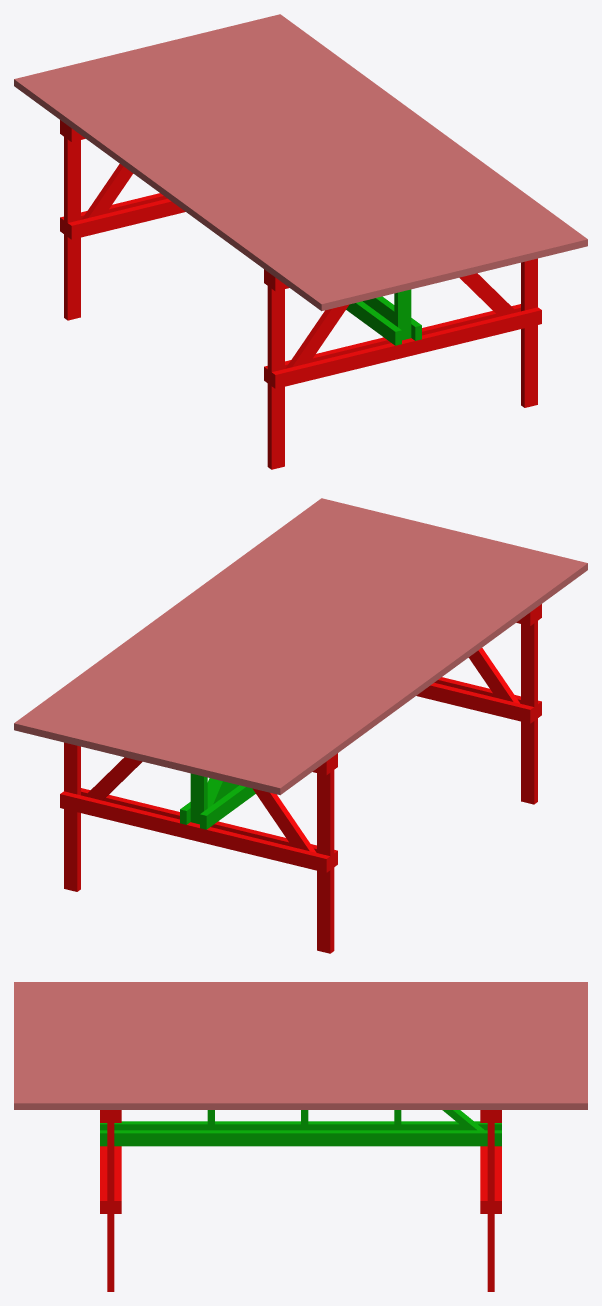
The model's file is result.glb.
3 views of the same model, one above another, from view 1: azimuth 30°, elevation 25°; view 2: azimuth 150°, elevation 25°; view 3: azimuth 270°, elevation 25° (orthographic). The views are drawn at different scales.
Parts seen in each view (by area): view 1: 17156802-8069-48ad-a3d6-f1f27c2e1eca__Box, ee04fd55-8430-4158-9b3b-86bda41c402a__sideH, 465f13c7-1981-45a1-b0f3-b4b22285bb6d__undefined, b25d803a-f93b-4a24-a0ad-6a1a0cd66144__undefined, 5b04c9f0-d17f-4c0f-9908-2457fa7b6da6__undefined, bbb7f0a6-efba-440d-b036-33f28965a1c5__undefined, 9e53b205-1c9f-49cb-b3ae-92670fef0e92__undefined, d0b9159e-6cf1-46fc-8eb6-d82750da6486__undefined, 6ae28ce5-8555-43c6-b18a-3da016a2138d__undefined, be5e8734-b8b3-428a-919c-a5a648ca9a61__undefined, 006c07d4-372d-4ad4-82c1-bbde6f5d056b__undefined, dd40104c-f799-4702-85f7-1f3dc696cfce__undefined (+20 smaller); view 2: 17156802-8069-48ad-a3d6-f1f27c2e1eca__Box, 31c24a59-bce7-4e5c-ac81-3e35bd63a335__undefined, 465f13c7-1981-45a1-b0f3-b4b22285bb6d__undefined, b25d803a-f93b-4a24-a0ad-6a1a0cd66144__undefined, 5b04c9f0-d17f-4c0f-9908-2457fa7b6da6__undefined, bbb7f0a6-efba-440d-b036-33f28965a1c5__undefined, 9e53b205-1c9f-49cb-b3ae-92670fef0e92__undefined, 6ae28ce5-8555-43c6-b18a-3da016a2138d__undefined, be5e8734-b8b3-428a-919c-a5a648ca9a61__undefined, 006c07d4-372d-4ad4-82c1-bbde6f5d056b__undefined, dd40104c-f799-4702-85f7-1f3dc696cfce__undefined, b21fa055-c5cc-4437-97ca-630d4c1ddc2c__undefined (+19 smaller); view 3: 28c16b21-77ea-46c0-8996-ebf57c830689__undefined, 5e078e6e-1365-4e62-910b-94597eaa2401__strutH, d0b9159e-6cf1-46fc-8eb6-d82750da6486__undefined, 465f13c7-1981-45a1-b0f3-b4b22285bb6d__undefined, 6ae28ce5-8555-43c6-b18a-3da016a2138d__undefined, 25a20219-f936-4f2f-971f-ff276c861da0__undefined, be5e8734-b8b3-428a-919c-a5a648ca9a61__undefined, 006c07d4-372d-4ad4-82c1-bbde6f5d056b__undefined, cc29ee31-80b9-4578-8ab4-9cc879e7e67c__undefined, dd40104c-f799-4702-85f7-1f3dc696cfce__undefined, 5b04c9f0-d17f-4c0f-9908-2457fa7b6da6__undefined, 70f287e5-2379-4364-b12f-02446dab40bf__undefined (+16 smaller).
Part boxes in pixels (box(x1,y1,x2,y2)): 17156802-8069-48ad-a3d6-f1f27c2e1eca__Box: box(14, 76, 334, 311); ee04fd55-8430-4158-9b3b-86bda41c402a__sideH: box(271, 307, 541, 388); 465f13c7-1981-45a1-b0f3-b4b22285bb6d__undefined: box(41, 69, 361, 304); b25d803a-f93b-4a24-a0ad-6a1a0cd66144__undefined: box(254, 17, 574, 252); 5b04c9f0-d17f-4c0f-9908-2457fa7b6da6__undefined: box(134, 46, 454, 281); bbb7f0a6-efba-440d-b036-33f28965a1c5__undefined: box(201, 30, 521, 265); 9e53b205-1c9f-49cb-b3ae-92670fef0e92__undefined: box(214, 27, 534, 262); d0b9159e-6cf1-46fc-8eb6-d82750da6486__undefined: box(28, 72, 348, 307); 6ae28ce5-8555-43c6-b18a-3da016a2138d__undefined: box(54, 66, 374, 301); be5e8734-b8b3-428a-919c-a5a648ca9a61__undefined: box(81, 59, 401, 294); 006c07d4-372d-4ad4-82c1-bbde6f5d056b__undefined: box(94, 56, 414, 291); dd40104c-f799-4702-85f7-1f3dc696cfce__undefined: box(121, 50, 441, 285); 17156802-8069-48ad-a3d6-f1f27c2e1eca__Box: box(267, 560, 587, 795); 31c24a59-bce7-4e5c-ac81-3e35bd63a335__undefined: box(60, 791, 330, 872); 465f13c7-1981-45a1-b0f3-b4b22285bb6d__undefined: box(240, 553, 560, 788); b25d803a-f93b-4a24-a0ad-6a1a0cd66144__undefined: box(27, 501, 347, 736); 5b04c9f0-d17f-4c0f-9908-2457fa7b6da6__undefined: box(147, 530, 467, 765); bbb7f0a6-efba-440d-b036-33f28965a1c5__undefined: box(80, 514, 400, 749); 9e53b205-1c9f-49cb-b3ae-92670fef0e92__undefined: box(67, 511, 387, 746); 6ae28ce5-8555-43c6-b18a-3da016a2138d__undefined: box(227, 550, 547, 785); be5e8734-b8b3-428a-919c-a5a648ca9a61__undefined: box(200, 543, 520, 778); 006c07d4-372d-4ad4-82c1-bbde6f5d056b__undefined: box(187, 540, 507, 775); dd40104c-f799-4702-85f7-1f3dc696cfce__undefined: box(160, 534, 480, 769); b21fa055-c5cc-4437-97ca-630d4c1ddc2c__undefined: box(120, 524, 440, 759); 28c16b21-77ea-46c0-8996-ebf57c830689__undefined: box(14, 1097, 587, 1109); 5e078e6e-1365-4e62-910b-94597eaa2401__strutH: box(100, 1130, 501, 1146); d0b9159e-6cf1-46fc-8eb6-d82750da6486__undefined: box(14, 988, 587, 994); 465f13c7-1981-45a1-b0f3-b4b22285bb6d__undefined: box(14, 994, 587, 1000); 6ae28ce5-8555-43c6-b18a-3da016a2138d__undefined: box(14, 1000, 587, 1006); 25a20219-f936-4f2f-971f-ff276c861da0__undefined: box(14, 1006, 587, 1012); be5e8734-b8b3-428a-919c-a5a648ca9a61__undefined: box(14, 1012, 587, 1018); 006c07d4-372d-4ad4-82c1-bbde6f5d056b__undefined: box(14, 1018, 587, 1024); cc29ee31-80b9-4578-8ab4-9cc879e7e67c__undefined: box(14, 1024, 587, 1030); dd40104c-f799-4702-85f7-1f3dc696cfce__undefined: box(14, 1030, 587, 1036); 5b04c9f0-d17f-4c0f-9908-2457fa7b6da6__undefined: box(14, 1036, 587, 1042); 70f287e5-2379-4364-b12f-02446dab40bf__undefined: box(14, 1042, 587, 1048).
Size of the model in its own units: 1000 by 725 by 2000.
